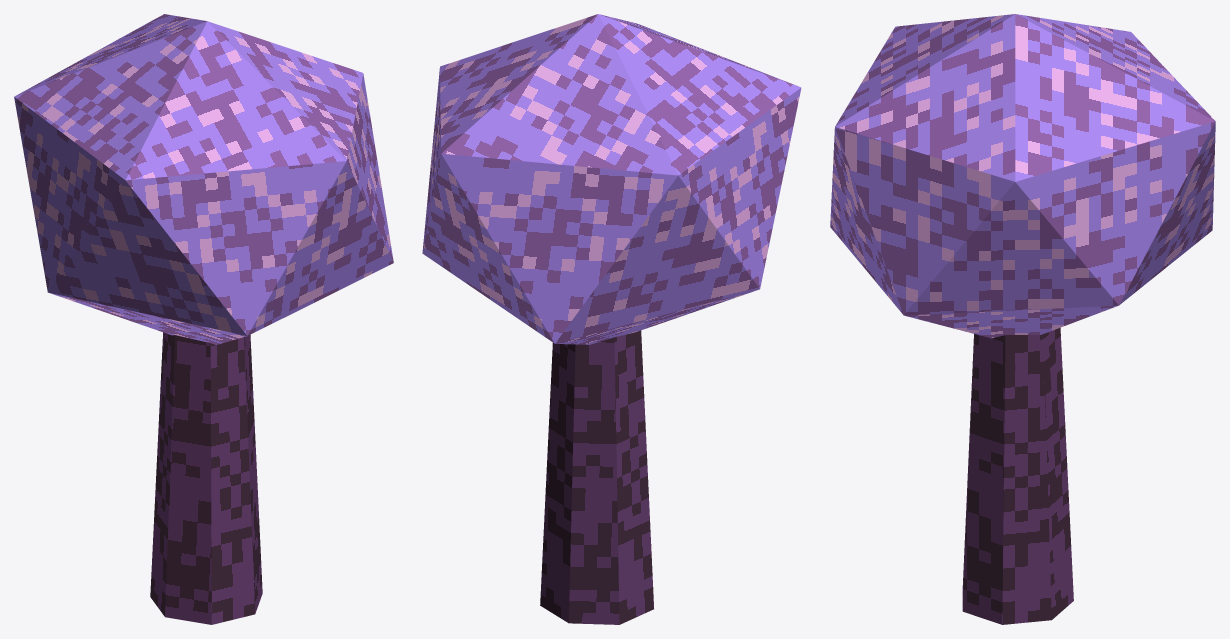
Rendered from r10_madeira_tempo.glb.
The picture shows the model from 3 angles, left to right: view 1: azimuth 30°, elevation 25°; view 2: azimuth 150°, elevation 25°; view 3: azimuth 270°, elevation 25°; orthographic projection.
Visible parts, largest first — view 1: r10_madeira_tempo; view 2: r10_madeira_tempo; view 3: r10_madeira_tempo.
Part boxes in pixels (box(x1,y1,x2,y2)): r10_madeira_tempo: box(14, 14, 393, 624); r10_madeira_tempo: box(422, 14, 801, 624); r10_madeira_tempo: box(830, 14, 1215, 624).
Size of the model in its own units: 1.89 by 3.32 by 1.98.
2 materials, 2 textured.
